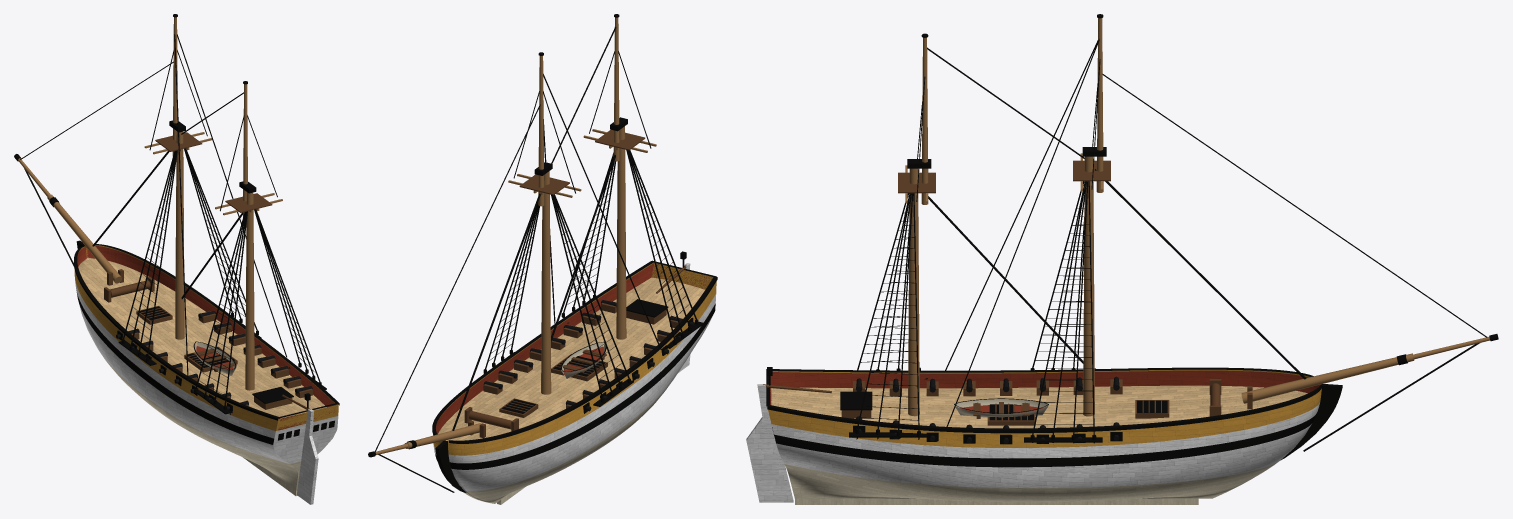
The model's file is brig.glb.
3 views of the same model, side by side, from view 1: azimuth 30°, elevation 25°; view 2: azimuth 150°, elevation 25°; view 3: azimuth 270°, elevation 25° (orthographic). The views are drawn at different scales.
Visible parts, largest first — view 1: hull; view 2: hull; view 3: hull.
Part boxes in pixels (x1,y1,x2,y2): hull: [14, 14, 339, 504]; hull: [368, 14, 717, 504]; hull: [746, 14, 1498, 504].
Bounding box in the file's own units: 7.13 × 23.63 × 32.98.
Materials: 9 (5 with a texture image).
